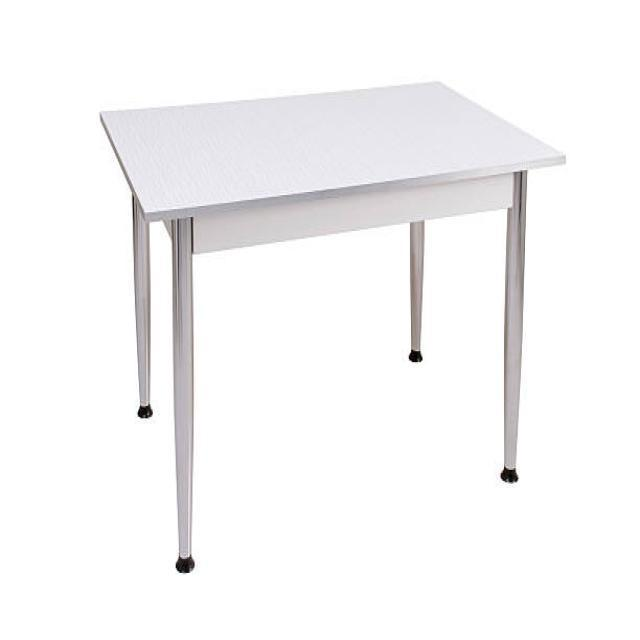table: (98, 76, 566, 573)
